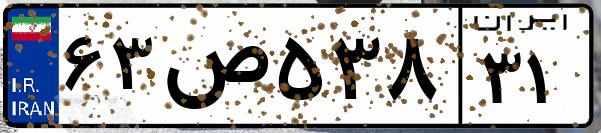1: (525, 38, 570, 115)
3: (330, 28, 385, 110), (475, 38, 525, 113), (110, 28, 158, 98)
5: (270, 28, 330, 110)
6: (57, 26, 110, 100)
8: (385, 28, 445, 110)
ص: (158, 20, 270, 120)
